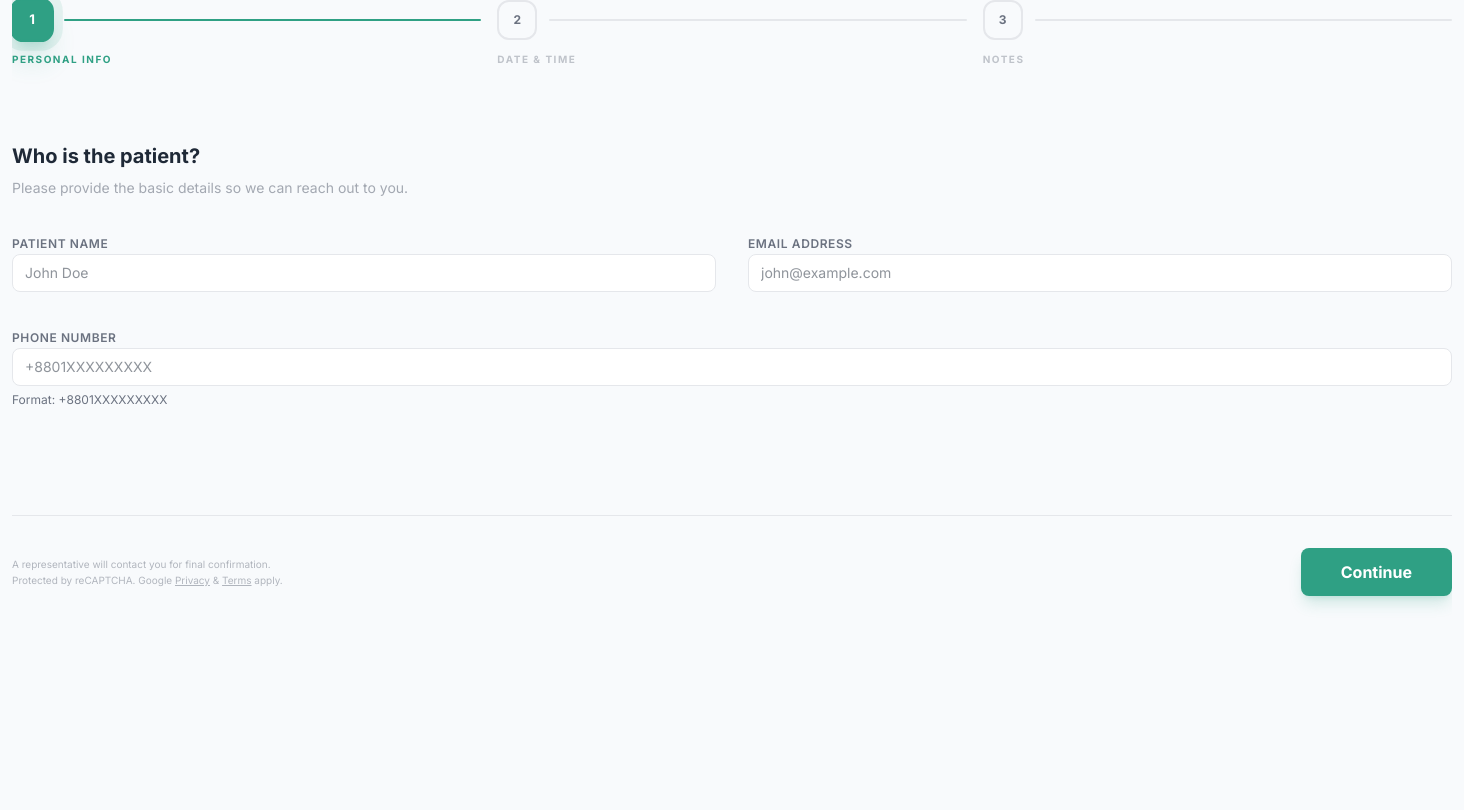
AppointmentForm › shows validation error on empty submit at step 1
Click the button "Continue".
click(1376, 572)  # box [1301, 548, 1452, 596]
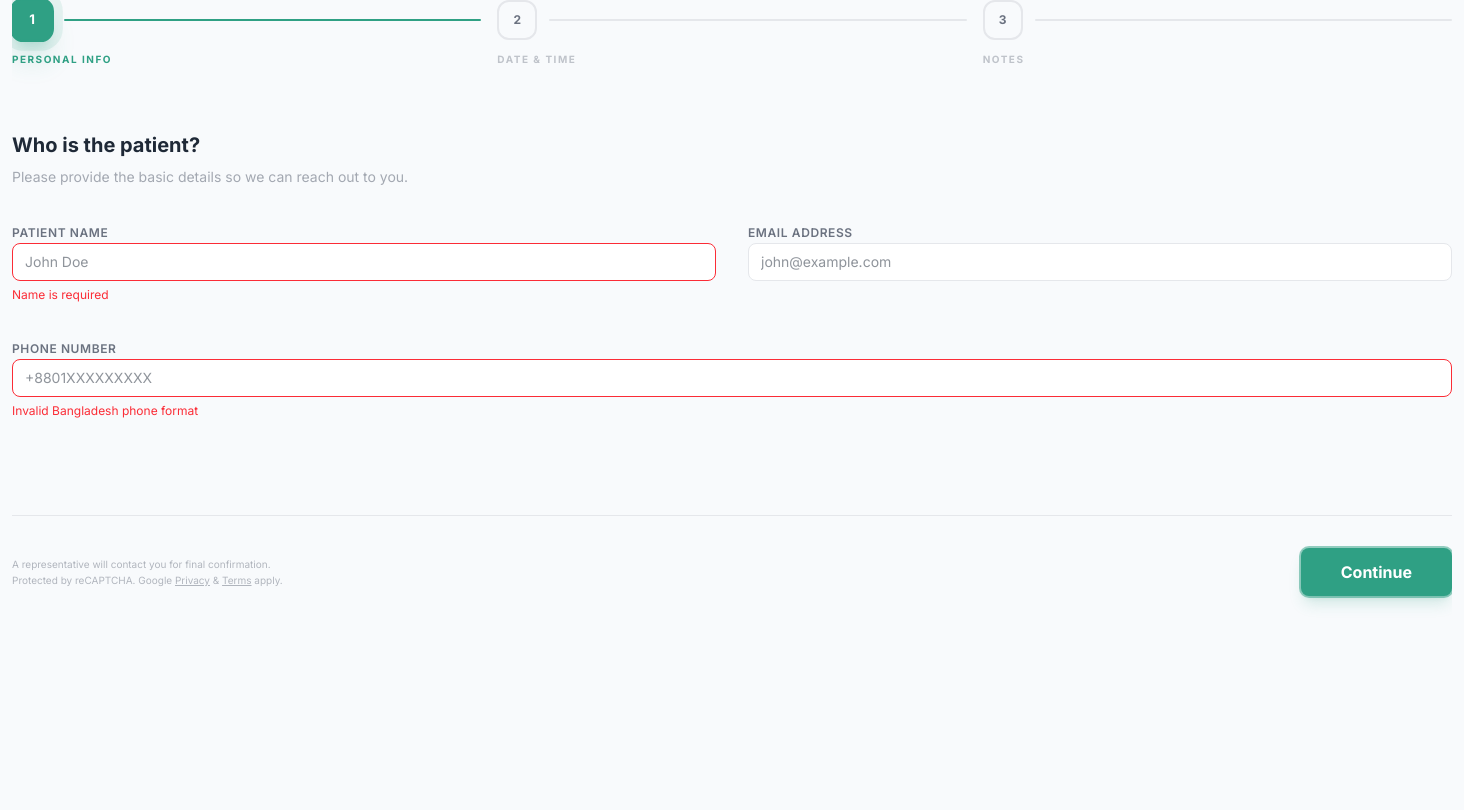
Expected: the text "Name is required" is shown, [12, 287, 109, 302]
Expected: the text "Invalid Bangladesh phone format" is shown, [12, 403, 198, 418]
